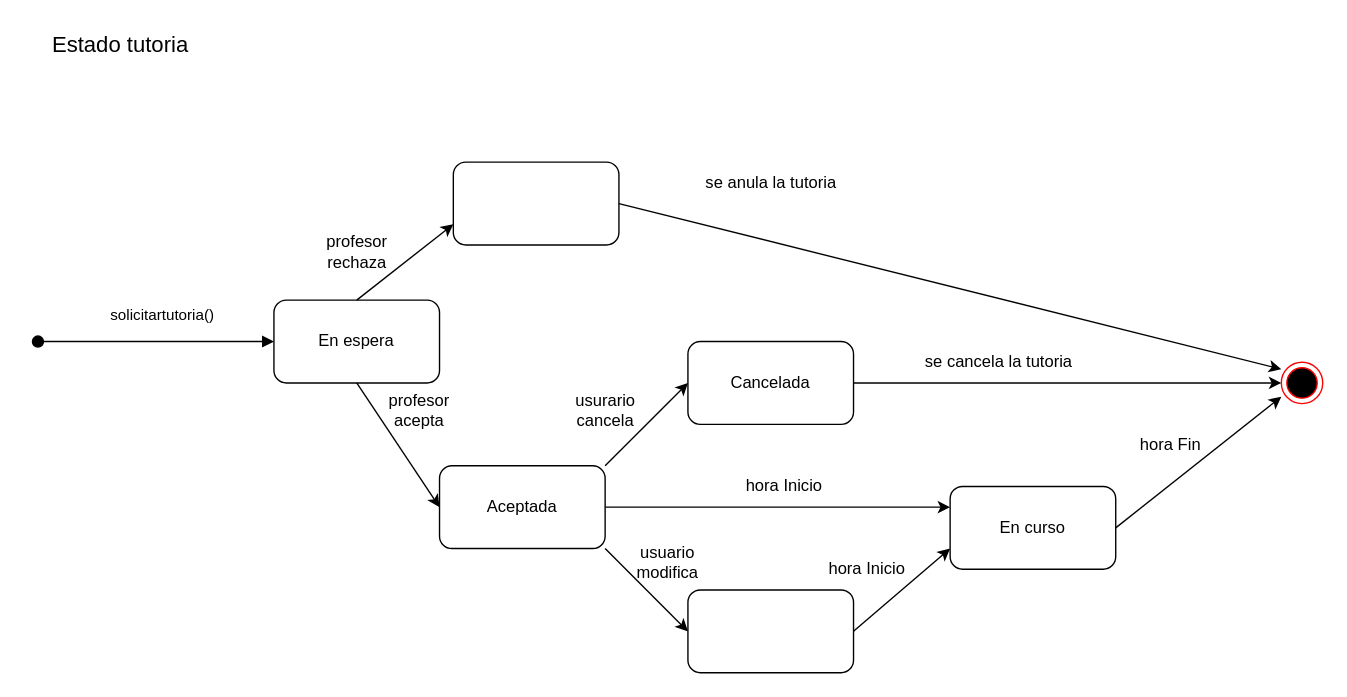
The diagram is 1347 pixels wide and 697 high, and some of its shapes have lost their labels. Each missing label, with the centre of its shape:
"Modificada" goes at (x=770, y=631).
"Rechazada" goes at (x=535, y=203).
